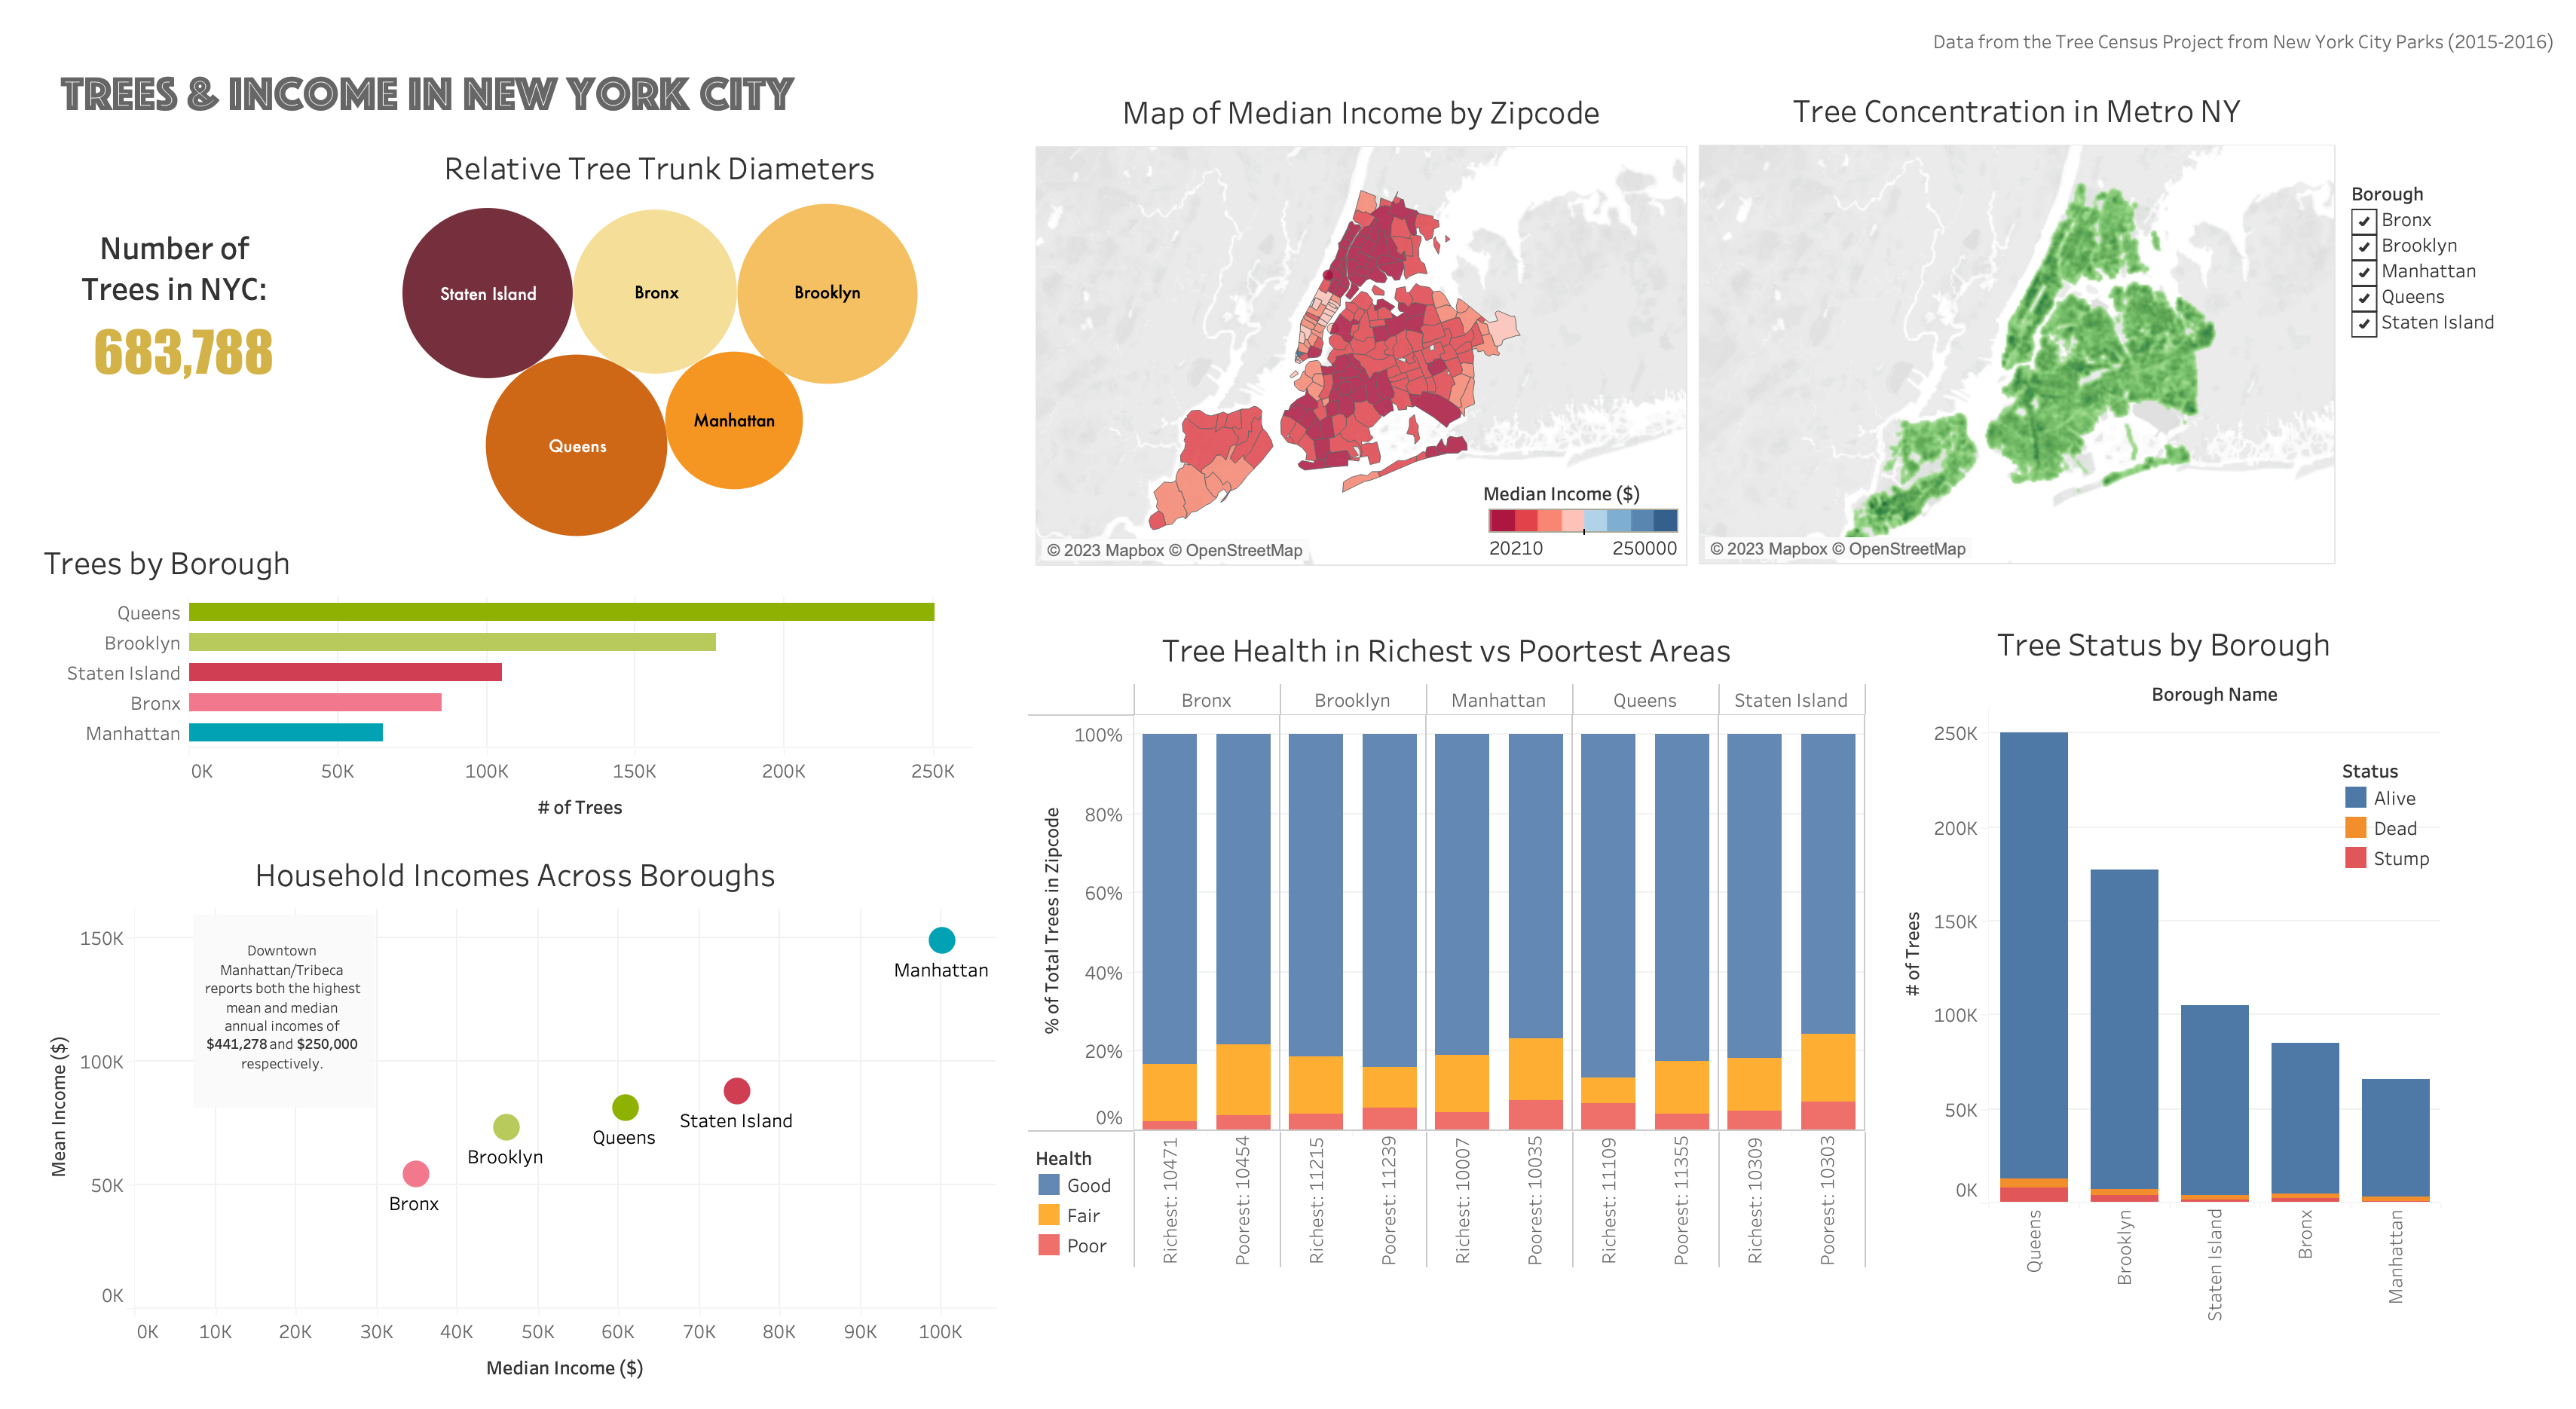

The dashboard page shown, as its layout file describes it:
{"tool":"tableau","page":{"name":"Dashboard 1","canvas":[1000,1000],"units":"permille","ordinal":0},"visuals":[{"type":"text","box":[749.1,12.8,244.4,32.1]},{"type":"text","box":[22.3,21.4,364.3,90.9]},{"type":"worksheet","title":"Tree Concentration","mark":"Heatmap","rows":["Latitude"],"cols":["longitude"],"box":[659.6,56.7,247.4,344.4]},{"type":"worksheet","title":"Income by Zipcode","mark":"Multipolygon","box":[401.8,57.8,253.2,344.4]},{"type":"worksheet","title":"Trunk Diameter Bubbles","mark":"Circle","box":[115.3,97.3,282,283.4]},{"type":"filter","title":"Tree Concentration","param":"[federated.1p1ht0v1gea0v01drewu614sry3g].[none:boroname:nk]","box":[912.8,127.3,66.1,165.8]},{"type":"worksheet","title":"Total Trees","mark":"Automatic","box":[26.9,154,104.7,150.8]},{"type":"legend","title":"Income by Zipcode","param":"[federated.1p1ht0v1gea0v01drewu614sry3g].[none:HouseholdsEstimateMedian income (","box":[575.8,336.9,78.4,64.2]},{"type":"worksheet","title":"Trees by Borough","mark":"Automatic","rows":["boroname"],"cols":["tree_id"],"box":[14.6,377.5,362.8,216]},{"type":"worksheet","title":"Tree Status","mark":"Automatic","rows":["status"],"cols":["boroname"],"box":[733.3,435.3,261.4,503.7]},{"type":"worksheet","title":"Health Rich & Poor","mark":"Automatic","cols":["boroname","Zipcode (copy)_1349813300578750464"],"box":[398.8,439.6,325.2,461]},{"type":"legend","title":"Tree Status","param":"[federated.1p1ht0v1gea0v01drewu614sry3g].[none:status:nk]","box":[908.8,535.8,66.7,83.4]},{"type":"worksheet","title":"Income Across Boroughs","mark":"Automatic","rows":["HouseholdsEstimateMean income (dollars)"],"cols":["HouseholdsEstimateMedian income (dollars)"],"box":[13.5,598.9,373.1,388.2]},{"type":"legend","title":"Health Rich & Poor","param":"[federated.1p1ht0v1gea0v01drewu614sry3g].[none:health:nk]","box":[401.2,810.7,55.6,95.2]}]}

Visuals, with their boxes on the dashboard's canvas, which has no fixed pixel size, in thousandths of its width and height (x1, y1, x2, y2). These are canvas units, not pixel positions in the 2576x1409 screenshot, which may show the page scaled, cropped or inside an application window:
text: <box>749,13,994,45</box>
text: <box>22,21,387,112</box>
"Tree Concentration" worksheet (Heatmap marks): <box>660,57,907,401</box>
"Income by Zipcode" worksheet (Multipolygon marks): <box>402,58,655,402</box>
"Trunk Diameter Bubbles" worksheet (Circle marks): <box>115,97,397,381</box>
"Tree Concentration" filter: <box>913,127,979,293</box>
"Total Trees" worksheet: <box>27,154,132,305</box>
"Income by Zipcode" legend: <box>576,337,654,401</box>
"Trees by Borough" worksheet: <box>15,378,377,594</box>
"Tree Status" worksheet: <box>733,435,995,939</box>
"Health Rich & Poor" worksheet: <box>399,440,724,901</box>
"Tree Status" legend: <box>909,536,976,619</box>
"Income Across Boroughs" worksheet: <box>14,599,387,987</box>
"Health Rich & Poor" legend: <box>401,811,457,906</box>
